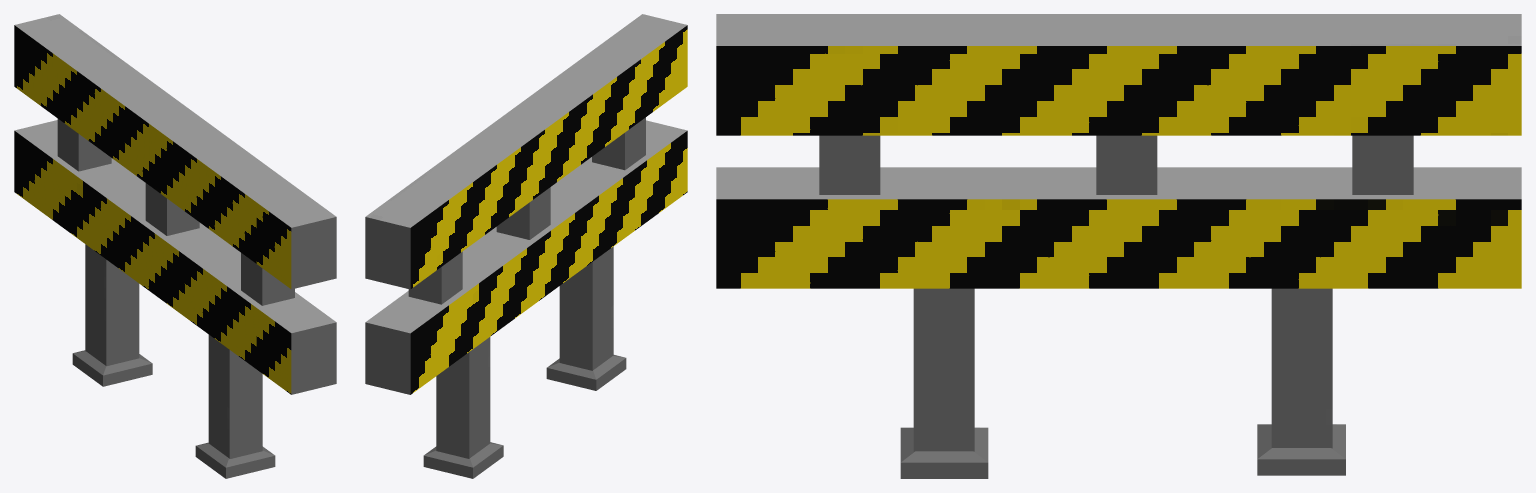
The model's file is Obstaculo-Barreira.fbx.
The picture shows the model from 3 angles, left to right: view 1: azimuth 30°, elevation 25°; view 2: azimuth 150°, elevation 25°; view 3: azimuth 270°, elevation 25°; orthographic projection. The views are drawn at different scales.
Parts seen in each view (by area): view 1: Cube.003; view 2: Cube.003; view 3: Cube.003.
Boxes of the visible parts, x1,y1,x2,y2 form: Cube.003: (14,14,336,478); Cube.003: (365,14,687,478); Cube.003: (716,14,1521,478).
Bounding box in the file's own units: 67.97 × 389 × 658.
